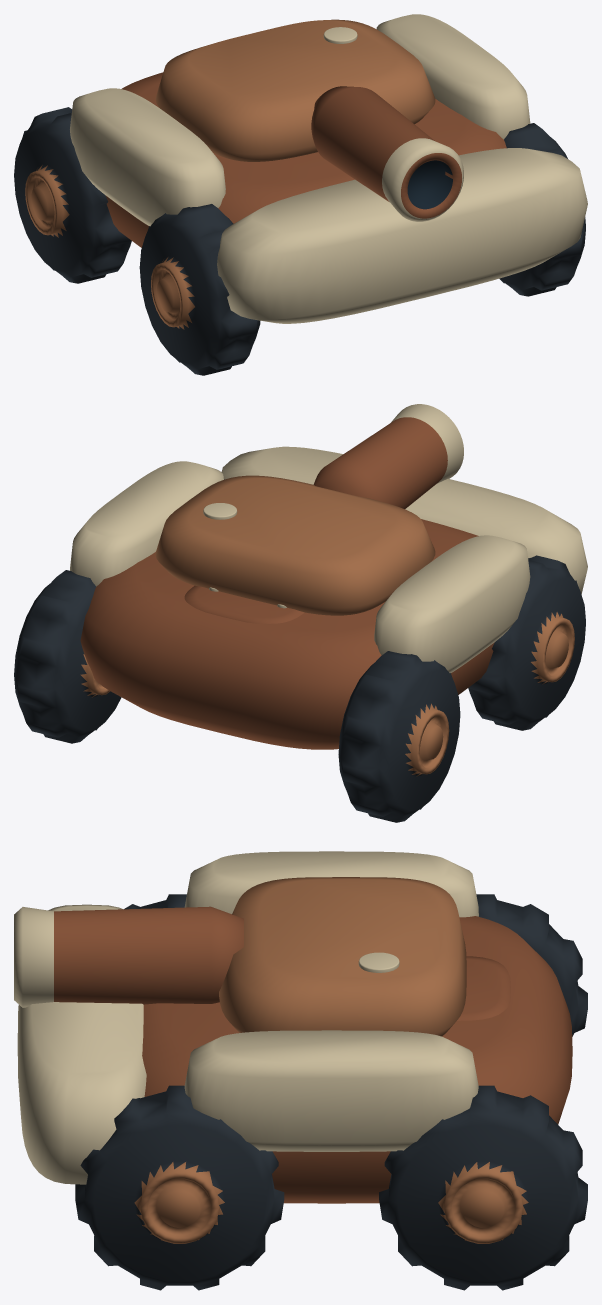
File: TOY_ROOKIE.hi.glb
3 views of the same model, one above another, from view 1: azimuth 30°, elevation 25°; view 2: azimuth 150°, elevation 25°; view 3: azimuth 270°, elevation 25° (orthographic). The views are drawn at different scales.
Parts seen in each view (by area): view 1: Body, TurretYaw, WheelsFront, BarrelRecoil, WheelsRear; view 2: Body, TurretYaw, WheelsRear, WheelsFront, BarrelRecoil; view 3: Body, WheelsRear, TurretYaw, WheelsFront, BarrelRecoil.
Part boxes in pixels (<box>): Body: <box>70,14,587,323</box>; TurretYaw: <box>155,19,435,161</box>; WheelsFront: <box>139,123,585,375</box>; BarrelRecoil: <box>311,86,463,221</box>; WheelsRear: <box>14,107,131,283</box>; Body: <box>70,446,587,749</box>; TurretYaw: <box>155,475,435,615</box>; WheelsRear: <box>14,570,460,822</box>; WheelsFront: <box>224,479,585,730</box>; BarrelRecoil: <box>313,404,463,508</box>; Body: <box>17,851,572,1203</box>; WheelsRear: <box>379,894,587,1290</box>; TurretYaw: <box>219,877,466,1036</box>; WheelsFront: <box>75,894,284,1290</box>; BarrelRecoil: <box>14,906,243,1007</box>.
Bounding box in the file's own units: 0.755 × 0.4163 × 0.786.
